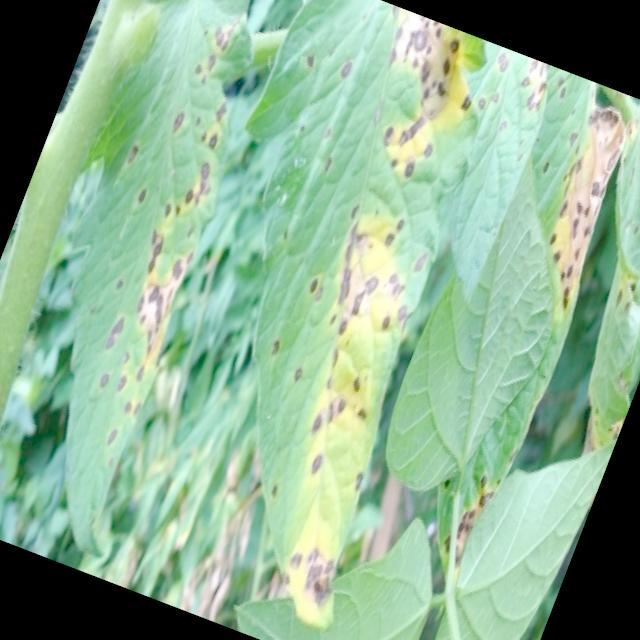Tomato Septoria spot leaf: (120, 0, 546, 637), (0, 0, 305, 557), (390, 39, 566, 307), (513, 100, 640, 465)
Tomato healthy leaf: (366, 140, 608, 520), (407, 401, 617, 640), (221, 460, 466, 640)
